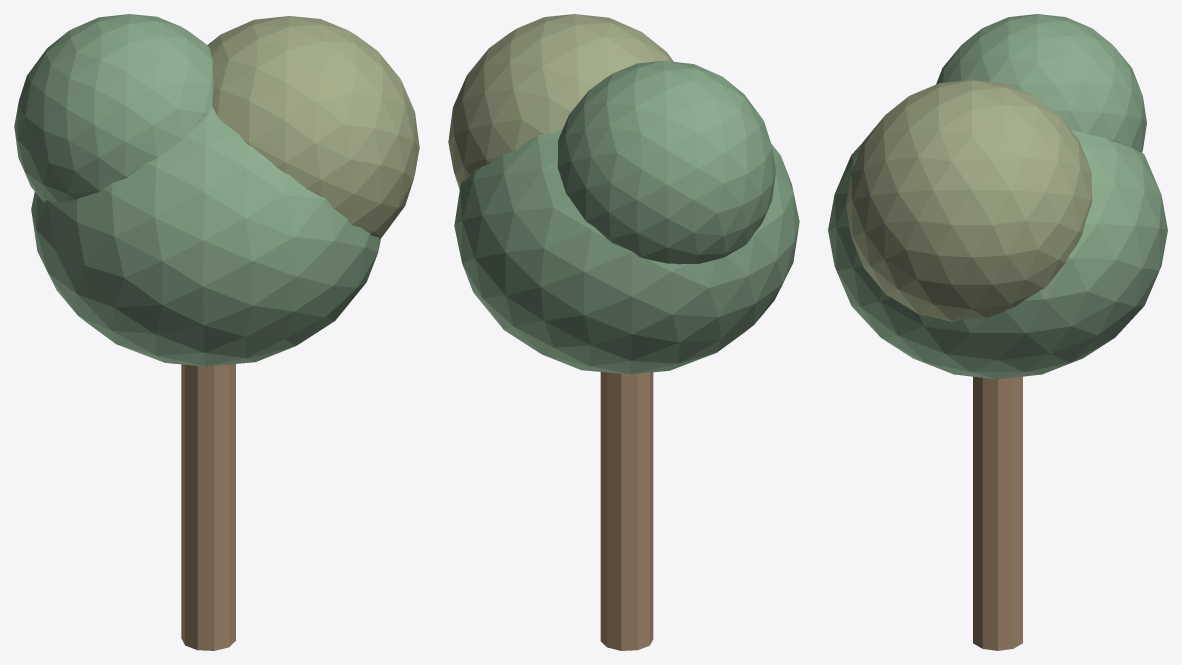
File: street_tree_03.glb
3 views of the same model, side by side, from view 1: azimuth 30°, elevation 25°; view 2: azimuth 150°, elevation 25°; view 3: azimuth 270°, elevation 25° (orthographic). The views are drawn at different scales.
Visible parts, largest first — view 1: crown1, crown2, crown3, trunk; view 2: crown1, crown3, crown2, trunk; view 3: crown2, crown1, crown3, trunk.
Boxes of the visible parts, x1,y1,x2,y2 form: crown1: [31, 106, 381, 366]; crown2: [207, 16, 419, 238]; crown3: [14, 14, 213, 202]; trunk: [181, 364, 235, 650]; crown1: [454, 129, 799, 374]; crown3: [557, 60, 775, 264]; crown2: [448, 14, 673, 189]; trunk: [600, 372, 653, 650]; crown2: [846, 79, 1092, 321]; crown1: [828, 130, 1167, 379]; crown3: [936, 14, 1146, 152]; trunk: [973, 376, 1022, 650].
Bounding box in the file's own units: 1.43 × 2.48 × 1.3.
